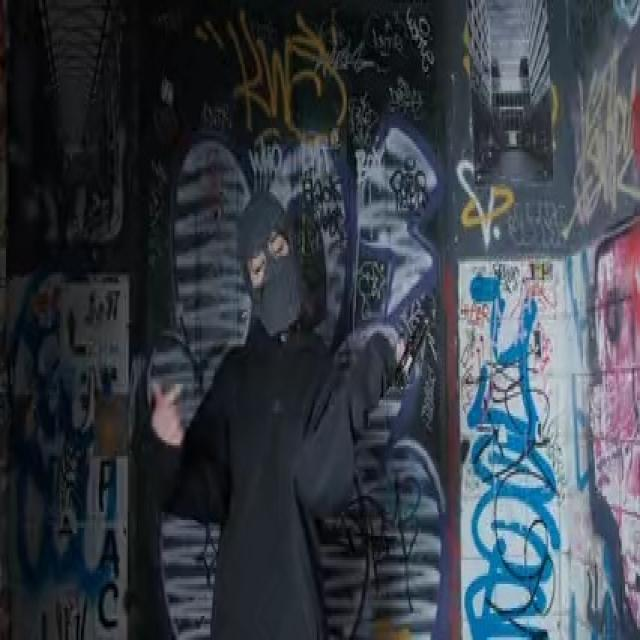Gun_Holder: (374, 310, 433, 405)
Person: (133, 191, 396, 640)
